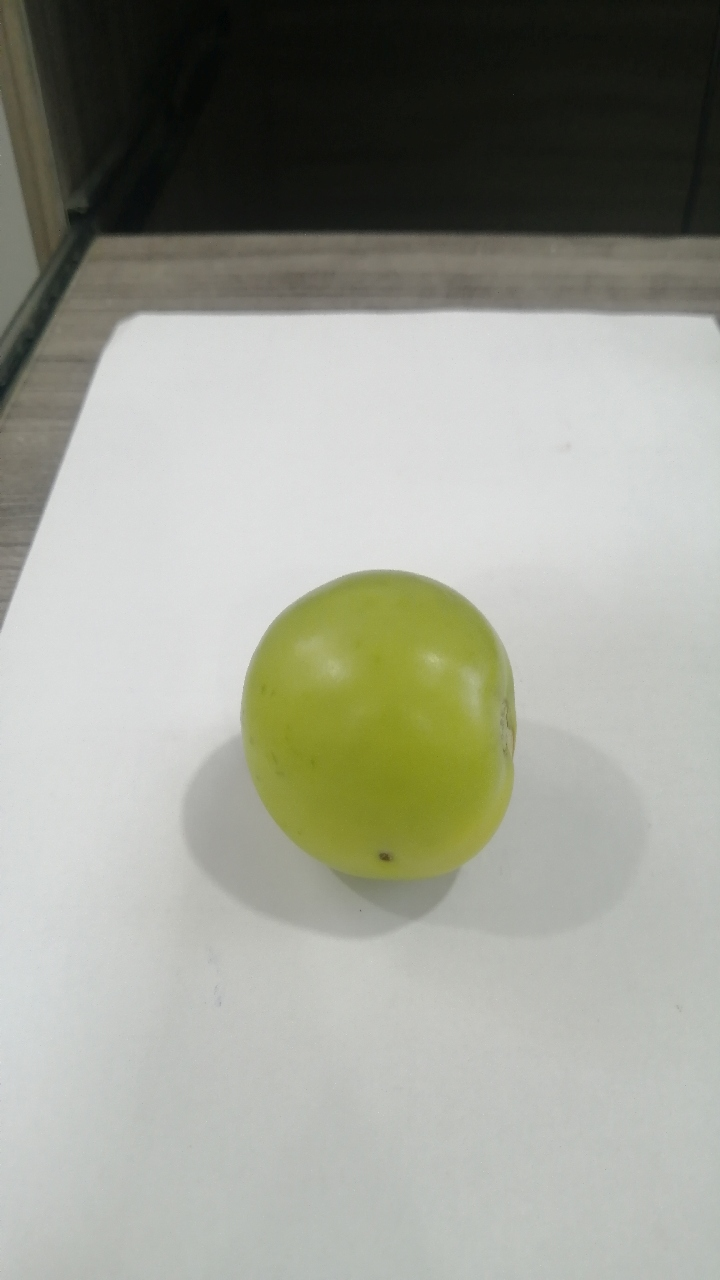tomateVerde: (203, 542, 554, 908)
